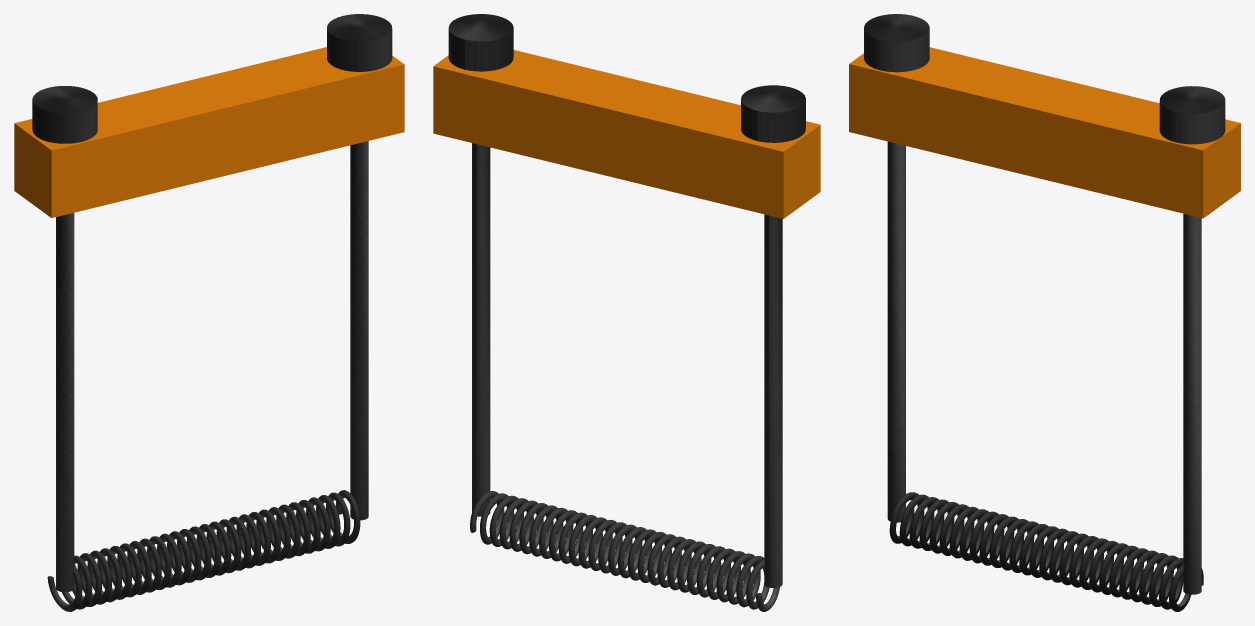
File: heater.fbx
The picture shows the model from 3 angles, left to right: view 1: azimuth 30°, elevation 25°; view 2: azimuth 150°, elevation 25°; view 3: azimuth 330°, elevation 25°; orthographic projection.
Parts seen in each view (by area): view 1: heater, Пружинка.001, Cylinder.003, Cylinder.004; view 2: heater, Пружинка.001, Cylinder.003, Cylinder.004; view 3: heater, Пружинка.001, Cylinder.004, Cylinder.003.
Part boxes in pixels (left/top/right/bottom): heater: left=14, top=47, right=404, bottom=217; Пружинка.001: left=47, top=490, right=360, bottom=611; Cylinder.003: left=32, top=86, right=97, bottom=592; Cylinder.004: left=327, top=14, right=392, bottom=520; heater: left=433, top=50, right=820, bottom=218; Пружинка.001: left=470, top=491, right=779, bottom=611; Cylinder.003: left=741, top=85, right=805, bottom=587; Cylinder.004: left=448, top=14, right=513, bottom=516; heater: left=849, top=47, right=1240, bottom=218; Пружинка.001: left=889, top=492, right=1203, bottom=611; Cylinder.004: left=1159, top=86, right=1225, bottom=594; Cylinder.003: left=864, top=14, right=929, bottom=522.
Bounding box in the file's own units: 1.26 × 1.76 × 0.2308.
Materials: 2 (1 with a texture image).
